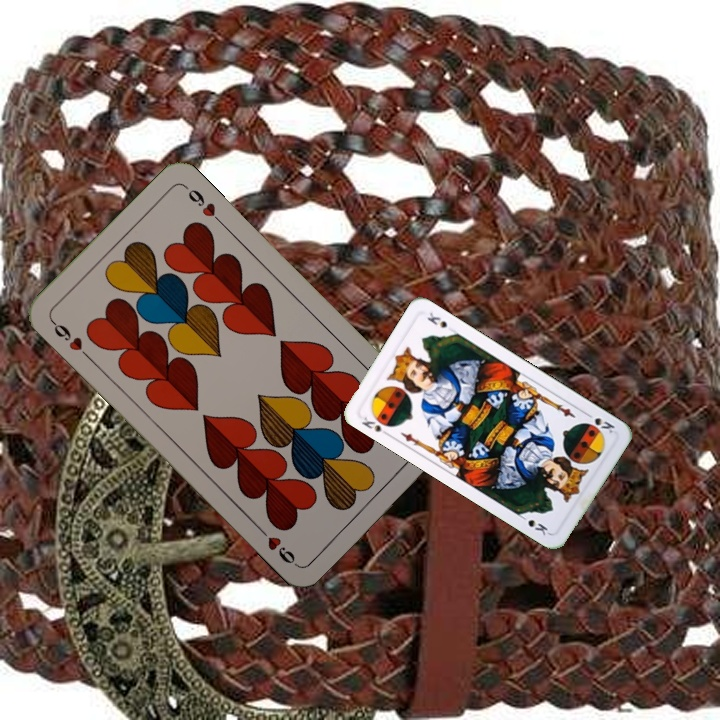H9: (47, 316, 93, 362)
SK: (581, 408, 617, 436), (357, 412, 393, 439)
